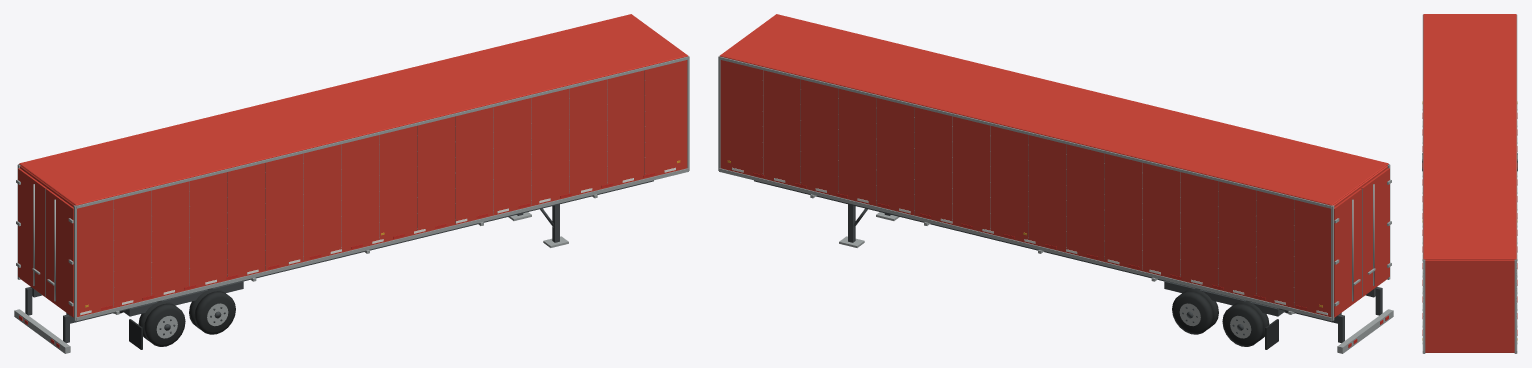
File: SM_MPR4_Trailer_Coral.fbx
3 views of the same model, side by side, from view 1: azimuth 30°, elevation 25°; view 2: azimuth 150°, elevation 25°; view 3: azimuth 270°, elevation 25° (orthographic). The views are drawn at different scales.
Visible parts, largest first — view 1: SM_MPR4_Trailer_Coral; view 2: SM_MPR4_Trailer_Coral; view 3: SM_MPR4_Trailer_Coral.
Boxes of the visible parts, box(x1,y1,x2,y2) form: SM_MPR4_Trailer_Coral: box(14, 14, 689, 353); SM_MPR4_Trailer_Coral: box(718, 14, 1393, 353); SM_MPR4_Trailer_Coral: box(1422, 14, 1517, 353).
Size of the model in its own units: 1639 by 267 by 417.
